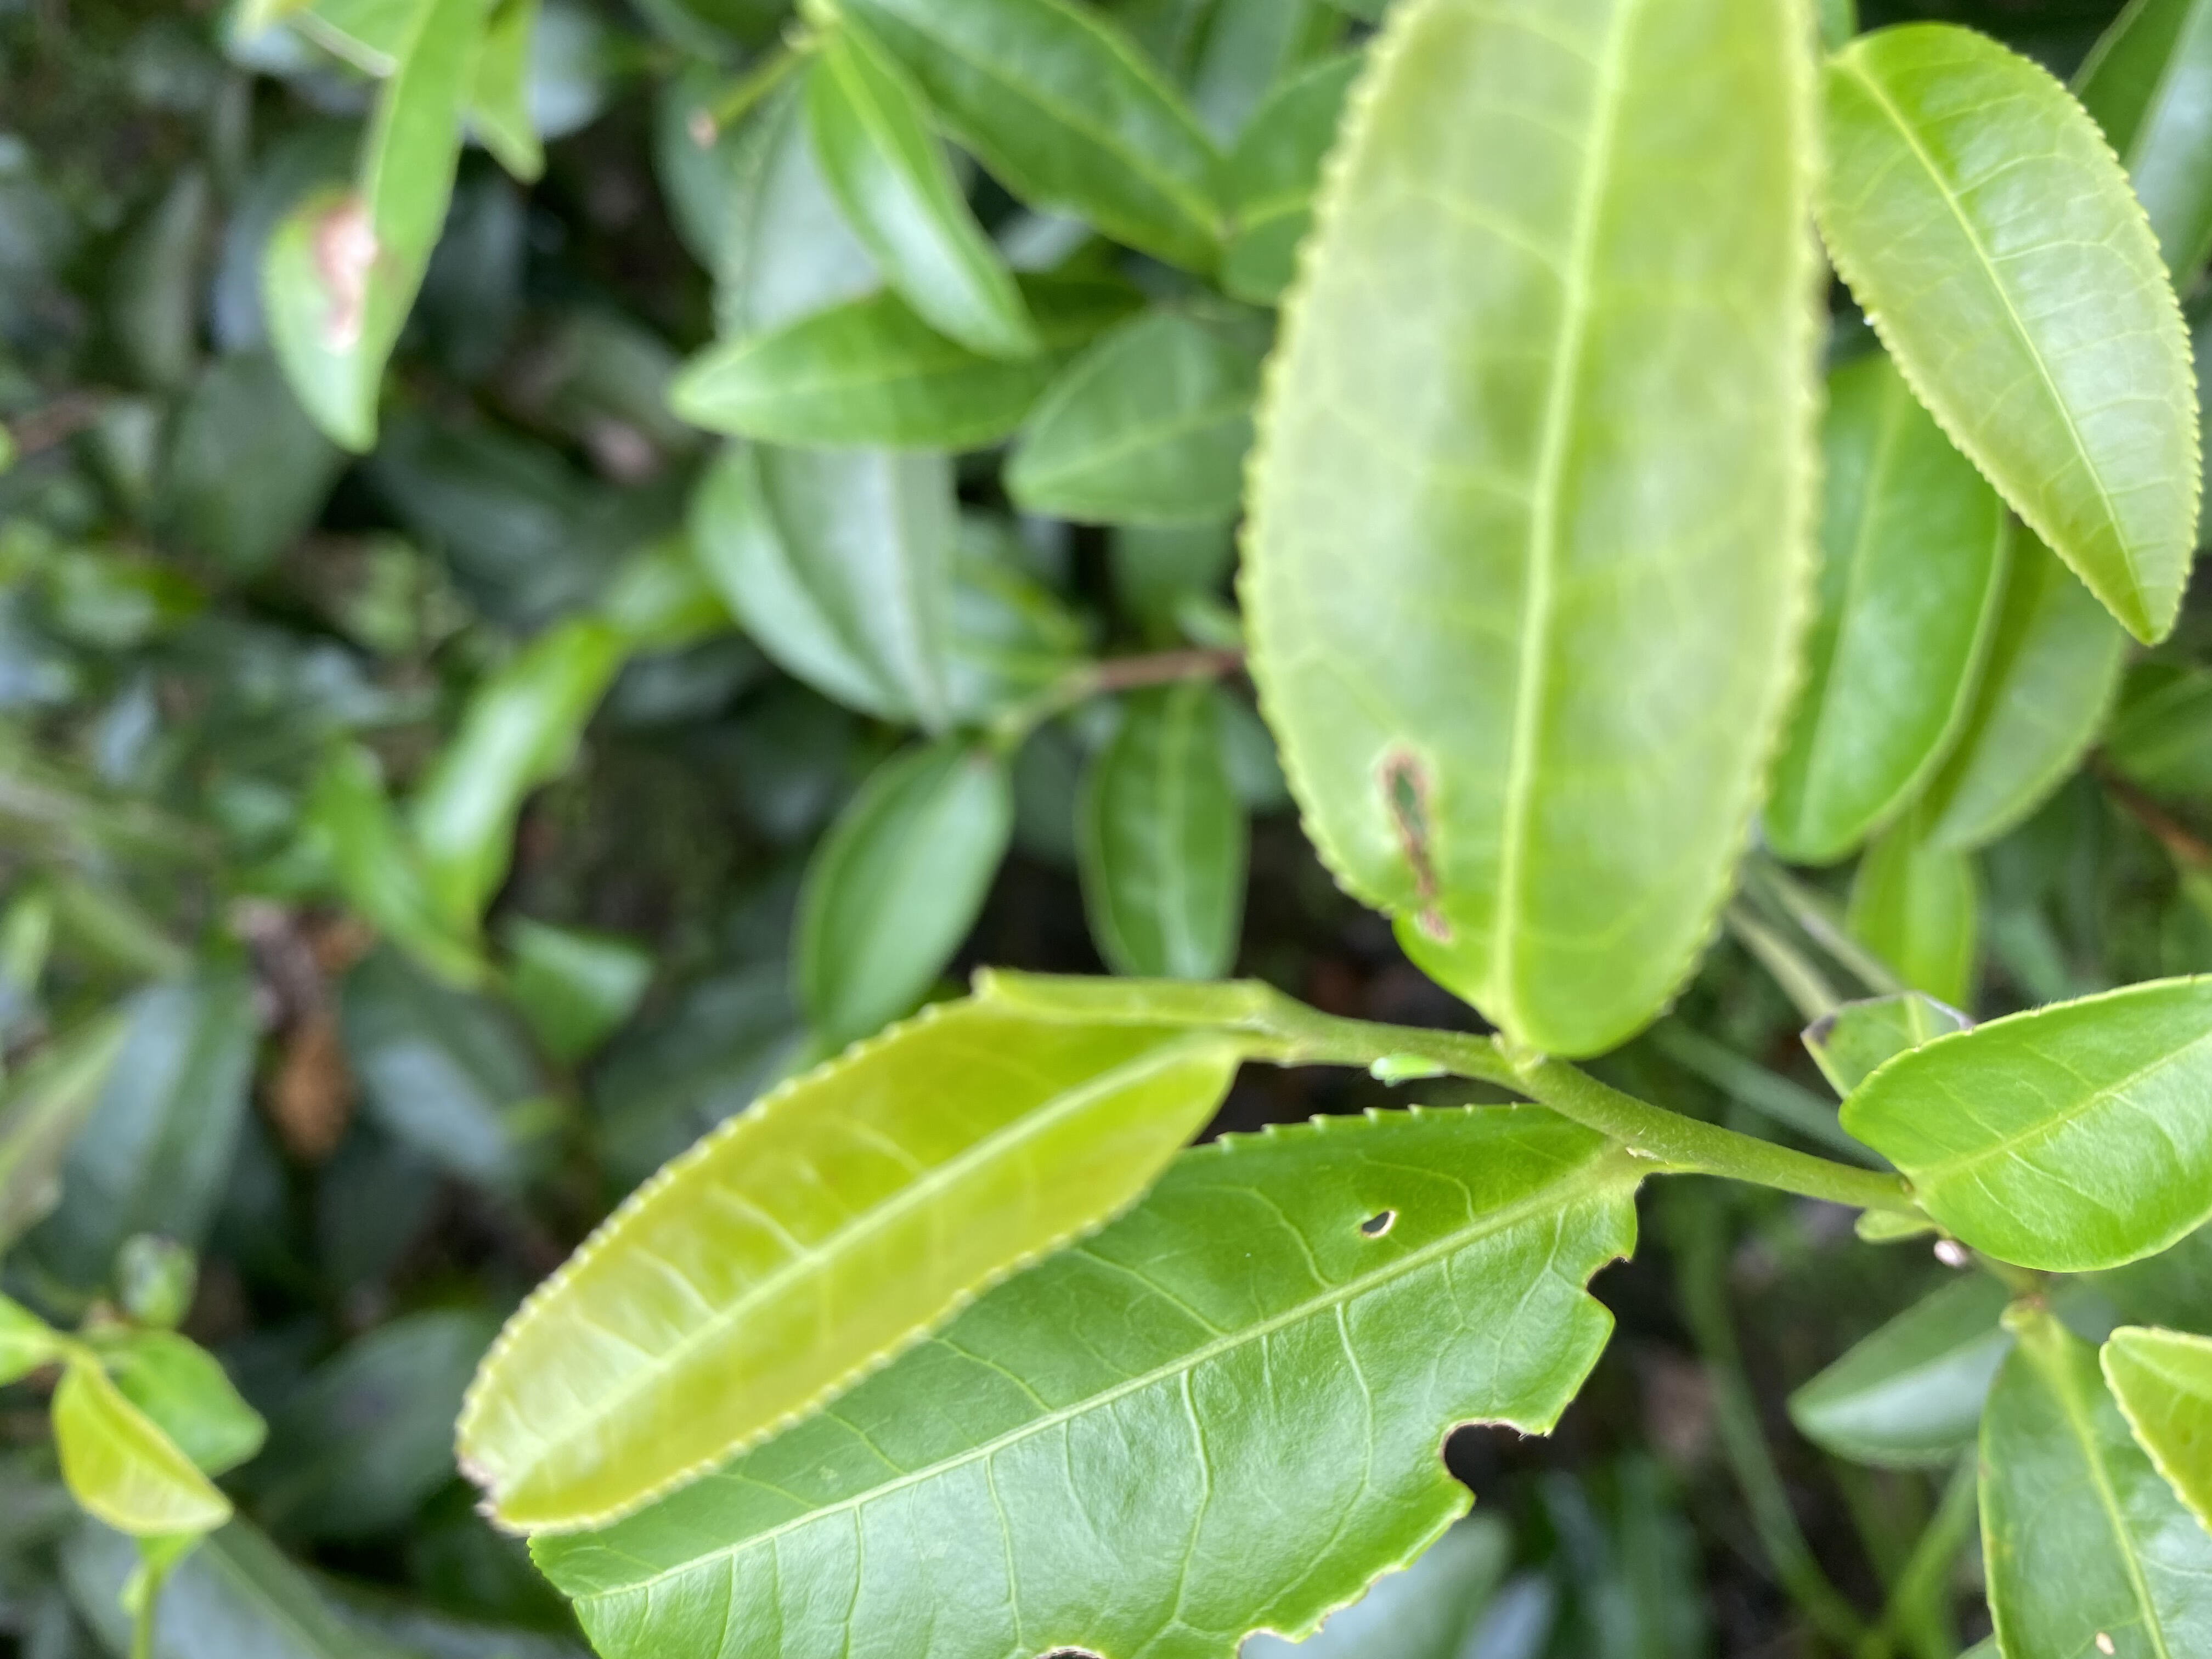chihuo_high: (529, 1107, 1644, 1659)
healthy: (1818, 23, 2207, 647), (1843, 972, 2210, 1270)
tanju_low: (1231, 5, 1834, 1061), (456, 999, 1251, 1532)
